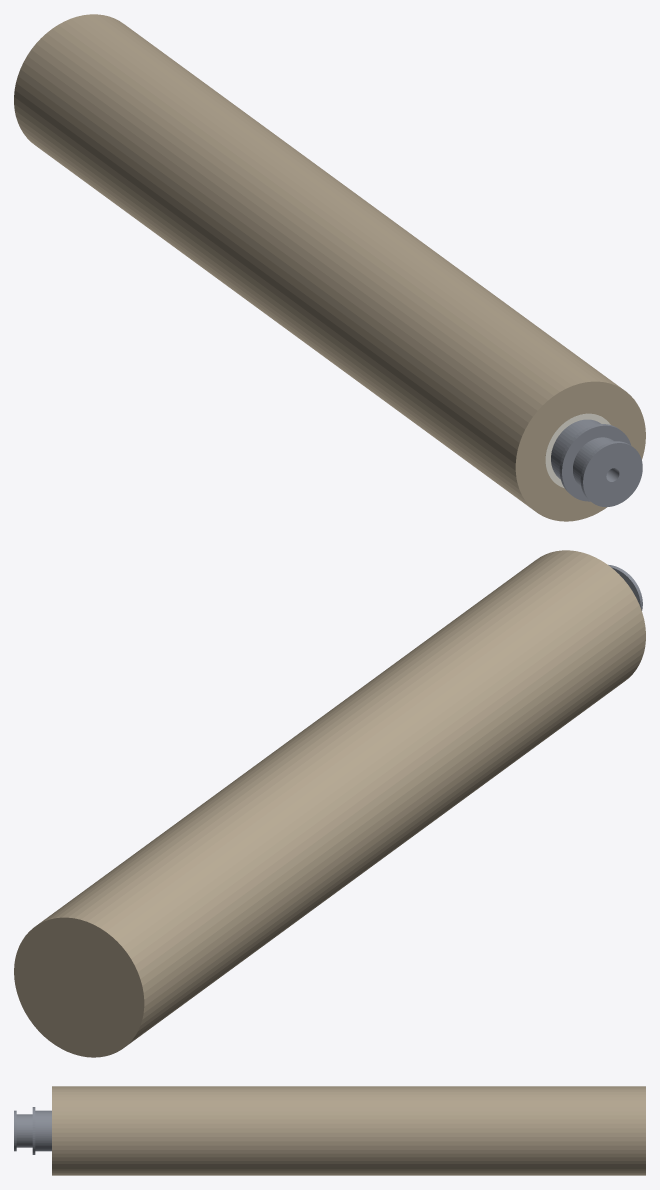
File: CM-WELLBORE.glb
3 renders of one model, top to bottom at view 1: azimuth 30°, elevation 25°; view 2: azimuth 150°, elevation 25°; view 3: azimuth 270°, elevation 25°, orthographic. The views are drawn at different scales.
Visible parts, largest first — view 1: CM-WELLBORE-FORMATION, CM-WELLBORE-WELLHEAD, CM-WELLBORE-CEMENT; view 2: CM-WELLBORE-FORMATION; view 3: CM-WELLBORE-FORMATION, CM-WELLBORE-WELLHEAD.
Boxes of the visible parts, x1,y1,x2,y2 form: CM-WELLBORE-FORMATION: (14, 14, 645, 521); CM-WELLBORE-WELLHEAD: (551, 419, 642, 507); CM-WELLBORE-CEMENT: (545, 413, 610, 487); CM-WELLBORE-FORMATION: (14, 550, 645, 1057); CM-WELLBORE-FORMATION: (52, 1086, 645, 1175); CM-WELLBORE-WELLHEAD: (14, 1107, 51, 1154).
Bounding box in the file's own units: 1.22 × 1.22 × 8.65.
